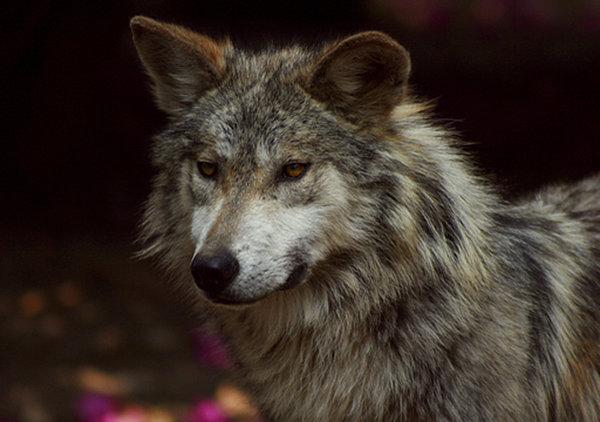Lobo: (123, 10, 569, 415)
